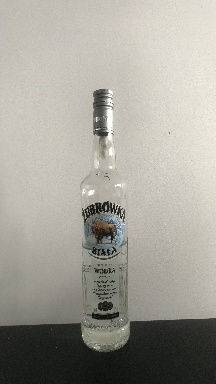butelka: (79, 86, 131, 353)
